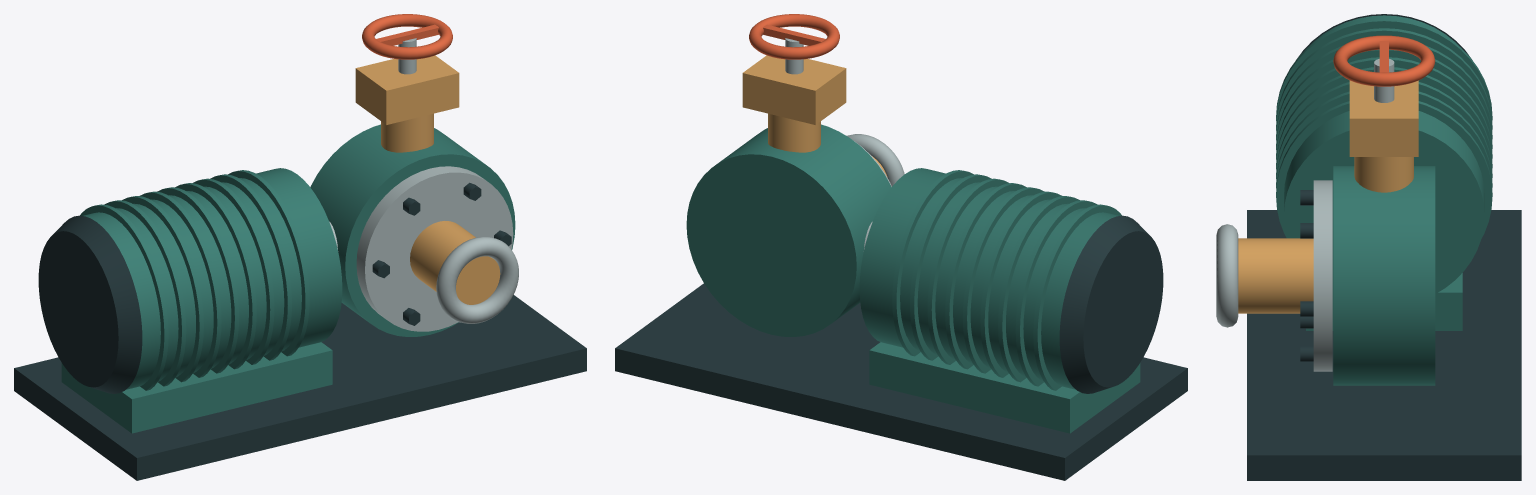
File: pump.glb
The picture shows the model from 3 angles, left to right: view 1: azimuth 30°, elevation 25°; view 2: azimuth 150°, elevation 25°; view 3: azimuth 270°, elevation 25°; orthographic projection. The views are drawn at different scales.
Visible parts, largest first — view 1: mounting-base, motor-housing, motor-end-cap, front-cover, pump-body, motor-support, pressure-valve, inlet-flange, inlet-port, valve-handwheel, cooling-fin-1, cooling-fin-4 (+9 smaller); view 2: mounting-base, pump-body, motor-housing, motor-end-cap, motor-support, pressure-valve, valve-handwheel, cooling-fin-1, cooling-fin-4, cooling-fin-9, cooling-fin-6, cooling-fin-7 (+7 smaller); view 3: mounting-base, pump-body, motor-housing, inlet-port, pressure-valve, front-cover, valve-handwheel, cooling-fin-9, cooling-fin-1, inlet-flange, cooling-fin-2, outlet-neck (+9 smaller).
Boxes of the visible parts, x1=… form: mounting-base: x1=14, y1=295, x2=586, y2=480; motor-housing: x1=83, y1=168, x2=342, y2=389; motor-end-cap: x1=38, y1=215, x2=142, y2=393; front-cover: x1=356, y1=166, x2=513, y2=331; pump-body: x1=310, y1=124, x2=515, y2=336; motor-support: x1=61, y1=342, x2=332, y2=433; pressure-valve: x1=355, y1=55, x2=459, y2=124; inlet-flange: x1=436, y1=237, x2=518, y2=323; inlet-port: x1=410, y1=221, x2=500, y2=304; valve-handwheel: x1=362, y1=14, x2=452, y2=59; cooling-fin-1: x1=80, y1=204, x2=168, y2=390; cooling-fin-4: x1=140, y1=191, x2=221, y2=377; mounting-base: x1=615, y1=283, x2=1187, y2=480; pump-body: x1=686, y1=124, x2=891, y2=336; motor-housing: x1=859, y1=168, x2=1118, y2=389; motor-end-cap: x1=1059, y1=215, x2=1163, y2=393; motor-support: x1=869, y1=342, x2=1140, y2=433; pressure-valve: x1=742, y1=55, x2=846, y2=124; valve-handwheel: x1=749, y1=14, x2=839, y2=59; cooling-fin-1: x1=1033, y1=204, x2=1121, y2=390; cooling-fin-4: x1=980, y1=191, x2=1061, y2=377; cooling-fin-9: x1=892, y1=170, x2=973, y2=356; cooling-fin-6: x1=945, y1=183, x2=1026, y2=369; cooling-fin-7: x1=927, y1=178, x2=1009, y2=364; mounting-base: x1=1247, y1=210, x2=1521, y2=480; pump-body: x1=1333, y1=166, x2=1435, y2=385; motor-housing: x1=1284, y1=15, x2=1484, y2=292; inlet-port: x1=1238, y1=238, x2=1313, y2=313; pressure-valve: x1=1349, y1=80, x2=1418, y2=156; front-cover: x1=1313, y1=180, x2=1332, y2=371; valve-handwheel: x1=1333, y1=35, x2=1435, y2=86; cooling-fin-9: x1=1276, y1=101, x2=1492, y2=238; cooling-fin-1: x1=1276, y1=18, x2=1492, y2=120; inlet-flange: x1=1216, y1=224, x2=1238, y2=327; cooling-fin-2: x1=1276, y1=28, x2=1492, y2=130; outlet-neck: x1=1354, y1=157, x2=1413, y2=192.
Size of the model in its own units: 3.7 by 2.55 by 1.95.
